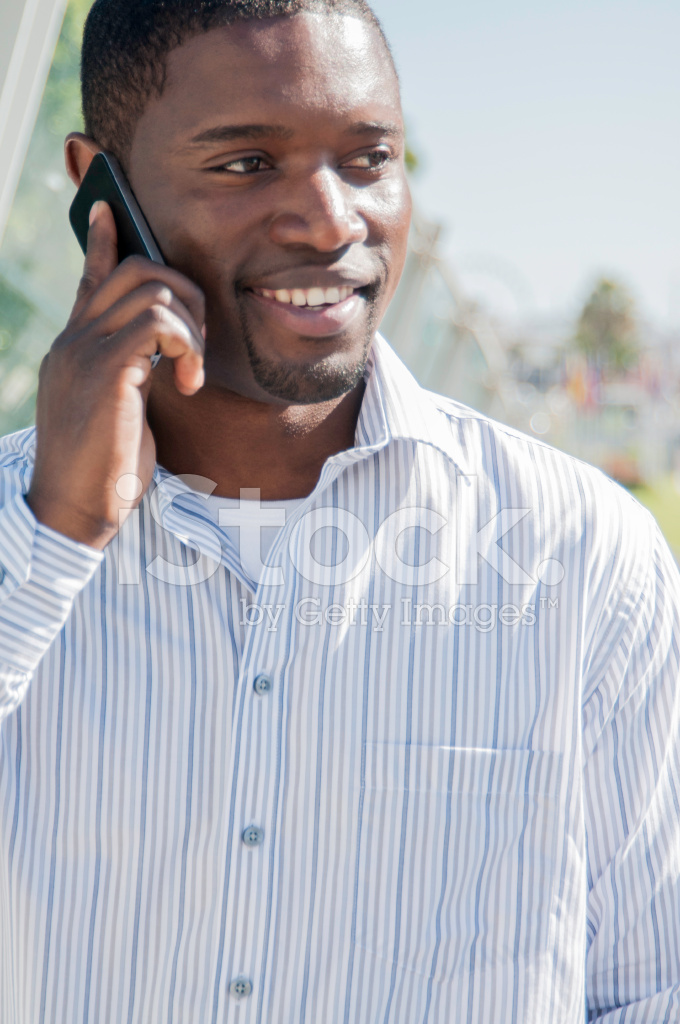phone: (80, 157, 196, 384)
talk: (49, 63, 413, 509)
